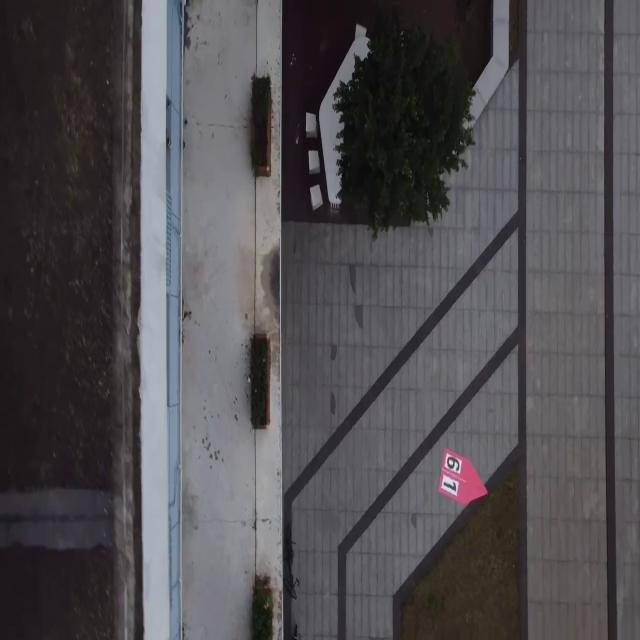-sign-: (438, 446, 488, 506)
